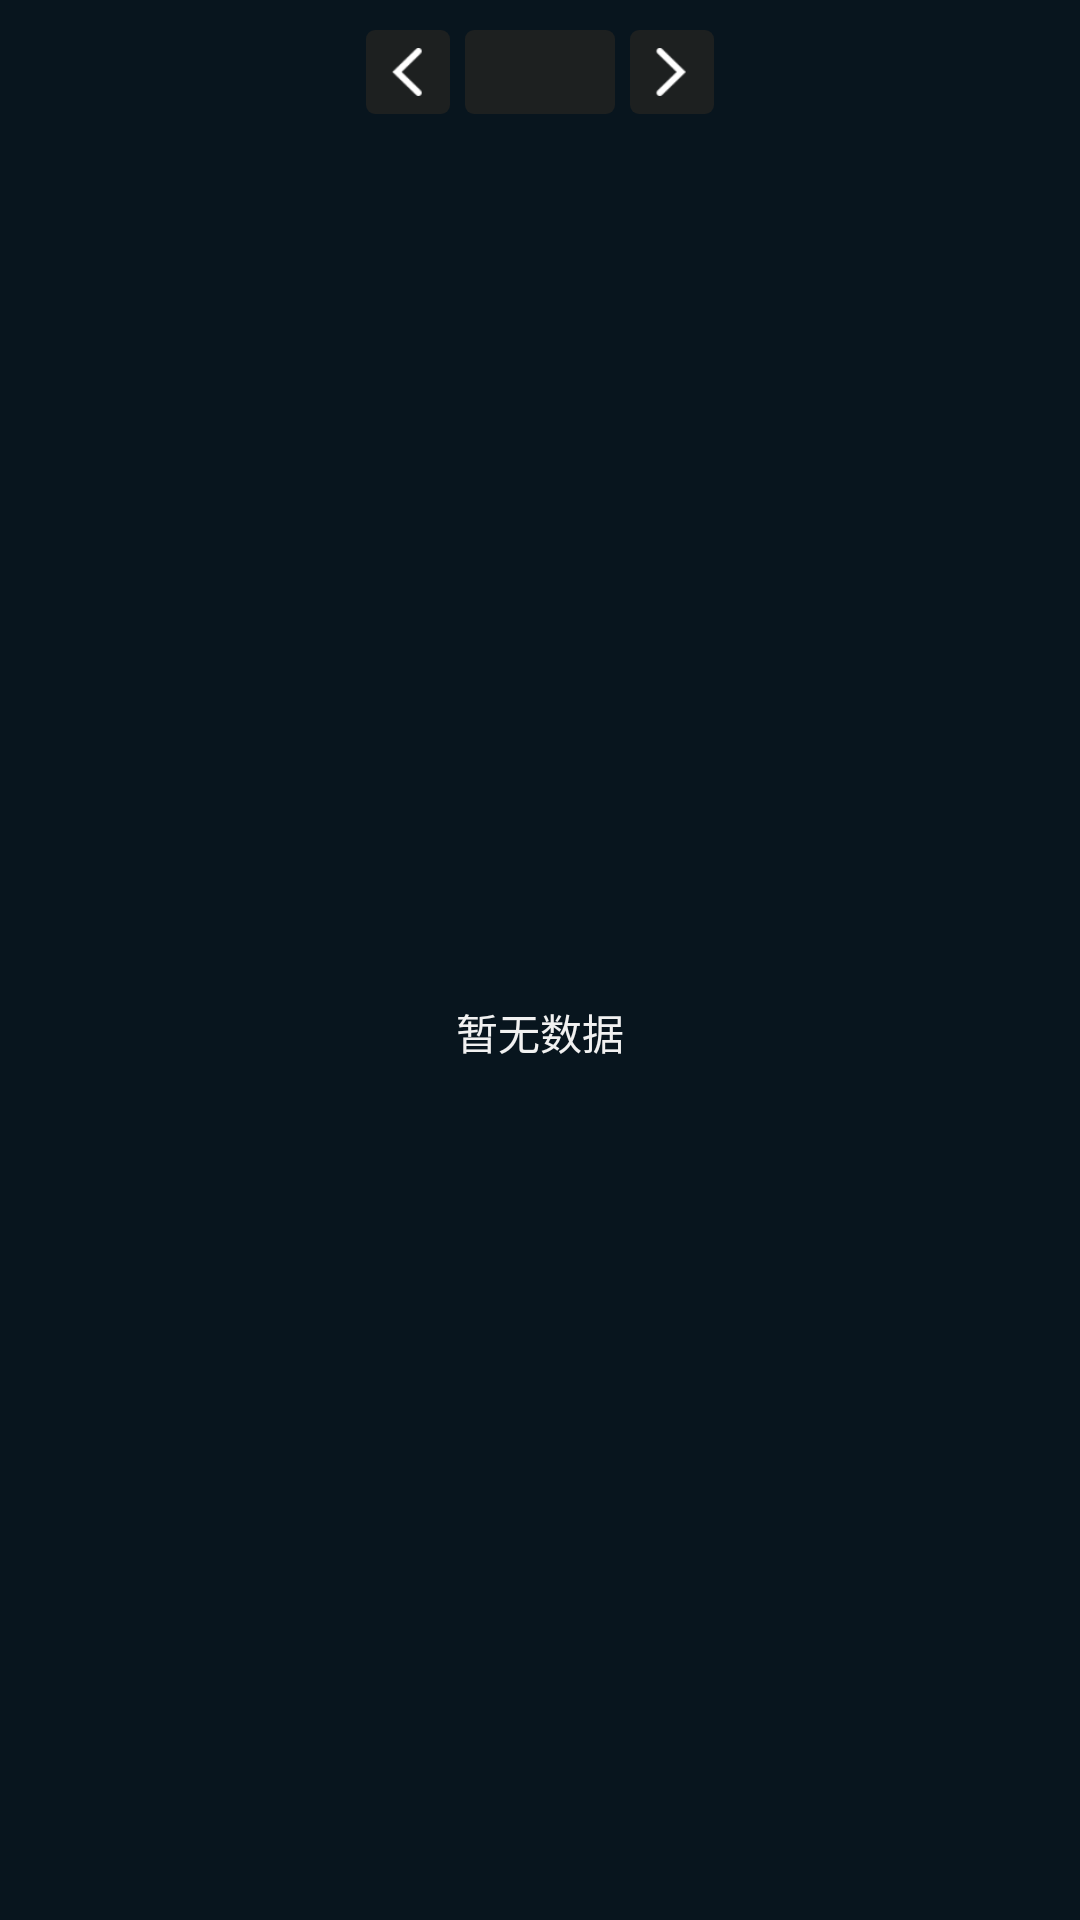

Screen size 1080px x 1920px. Icon name, then its box in pixels as region(x1, y1, x2, y2):
left cal enable: region(366, 30, 450, 114)
right cal enable: region(630, 30, 714, 114)
